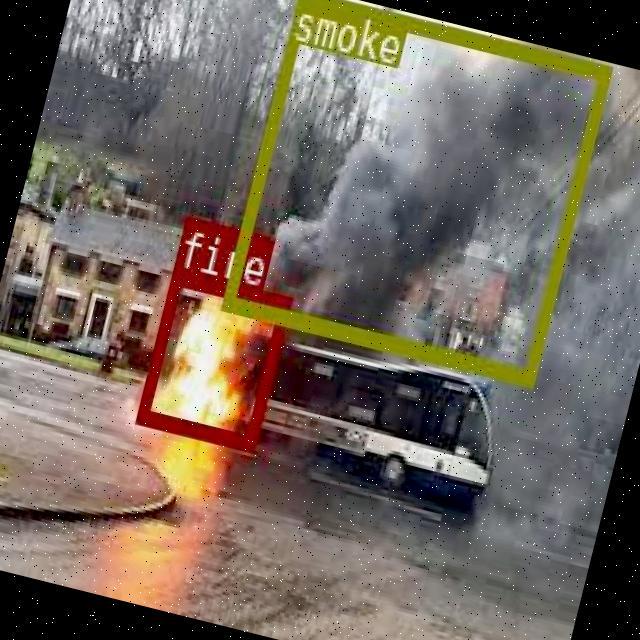fire: (133, 264, 290, 448)
smoke: (220, 0, 609, 382)
